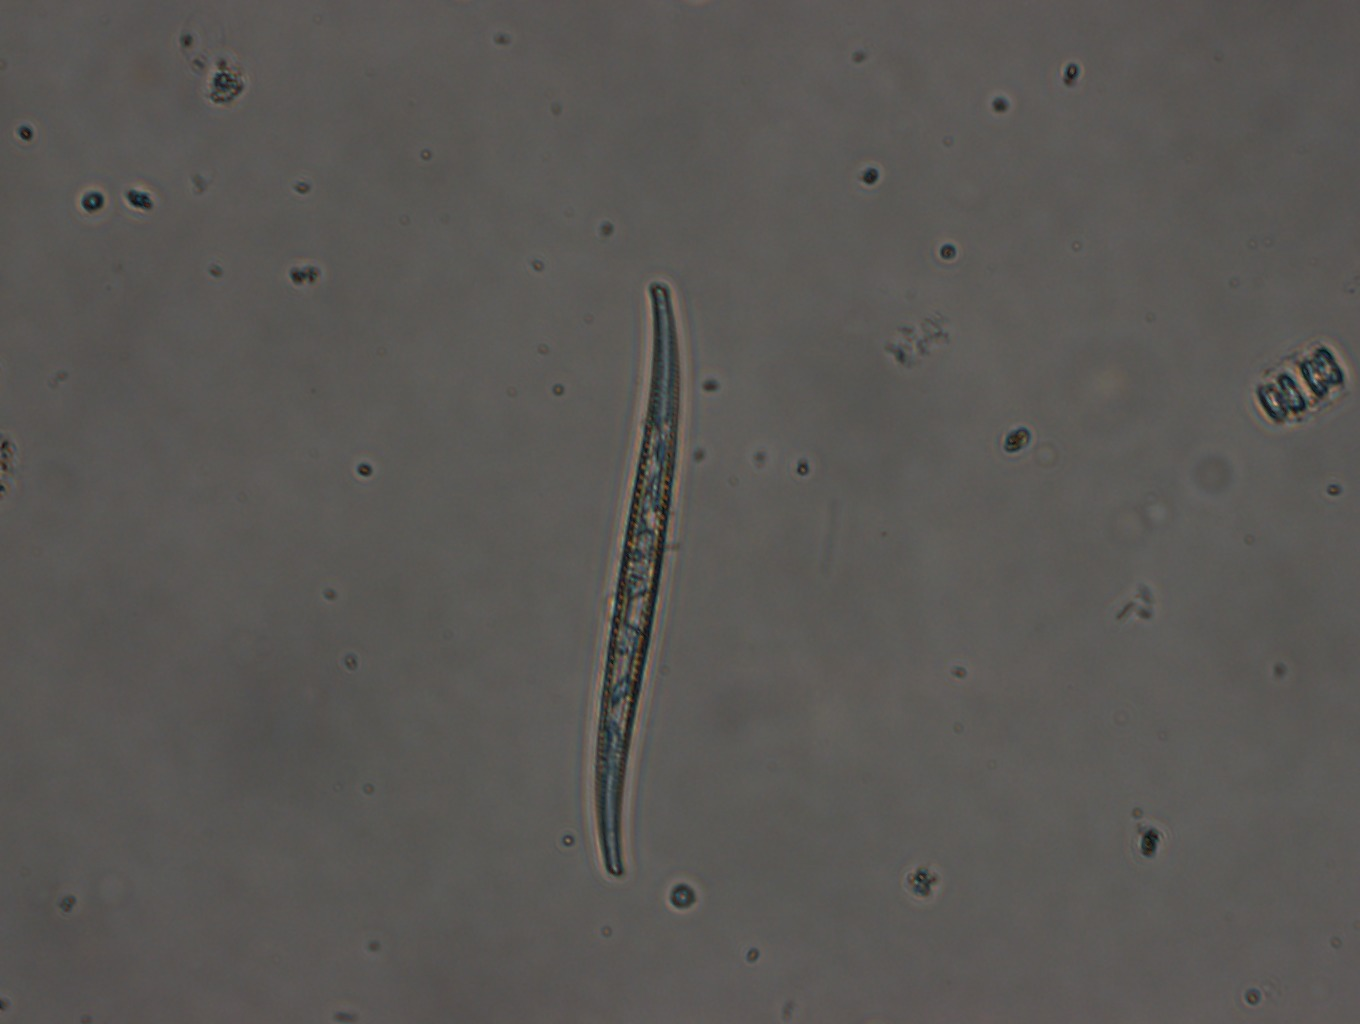pleurosigma pelagicum: (595, 278, 688, 868)
